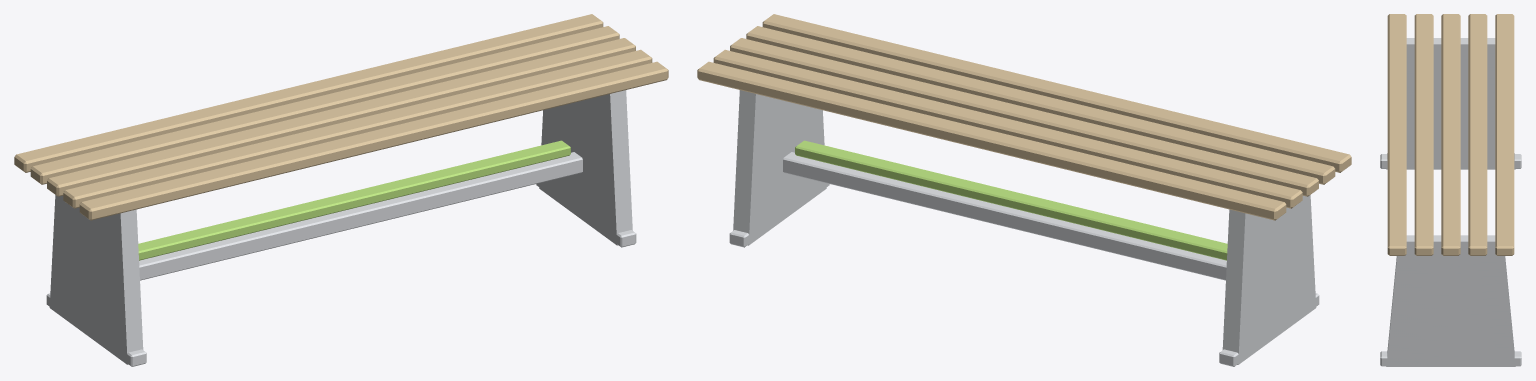
The model's file is laser-tag-arena-and-activity-centre-waiting-bench-2e804591__34497.glb.
3 views of the same model, side by side, from view 1: azimuth 30°, elevation 25°; view 2: azimuth 150°, elevation 25°; view 3: azimuth 270°, elevation 25° (orthographic). The views are drawn at different scales.
Visible parts, largest first — view 1: waiting-bench; view 2: waiting-bench; view 3: waiting-bench.
Boxes of the visible parts, box(x1,y1,x2,y2) form: waiting-bench: box(14, 14, 668, 366); waiting-bench: box(697, 14, 1351, 366); waiting-bench: box(1380, 14, 1521, 366).
Size of the model in its own units: 1.8 by 0.485 by 0.46.
